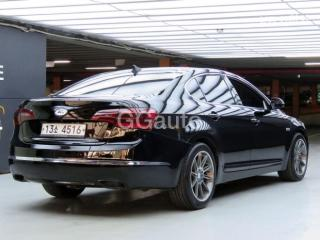1: (44, 124, 49, 134), (71, 125, 76, 135)
3: (49, 124, 54, 134)
4: (61, 124, 67, 134)
5: (66, 124, 71, 134)
6: (76, 125, 81, 135)
plate: (35, 118, 92, 145)
소: (54, 125, 59, 135)
